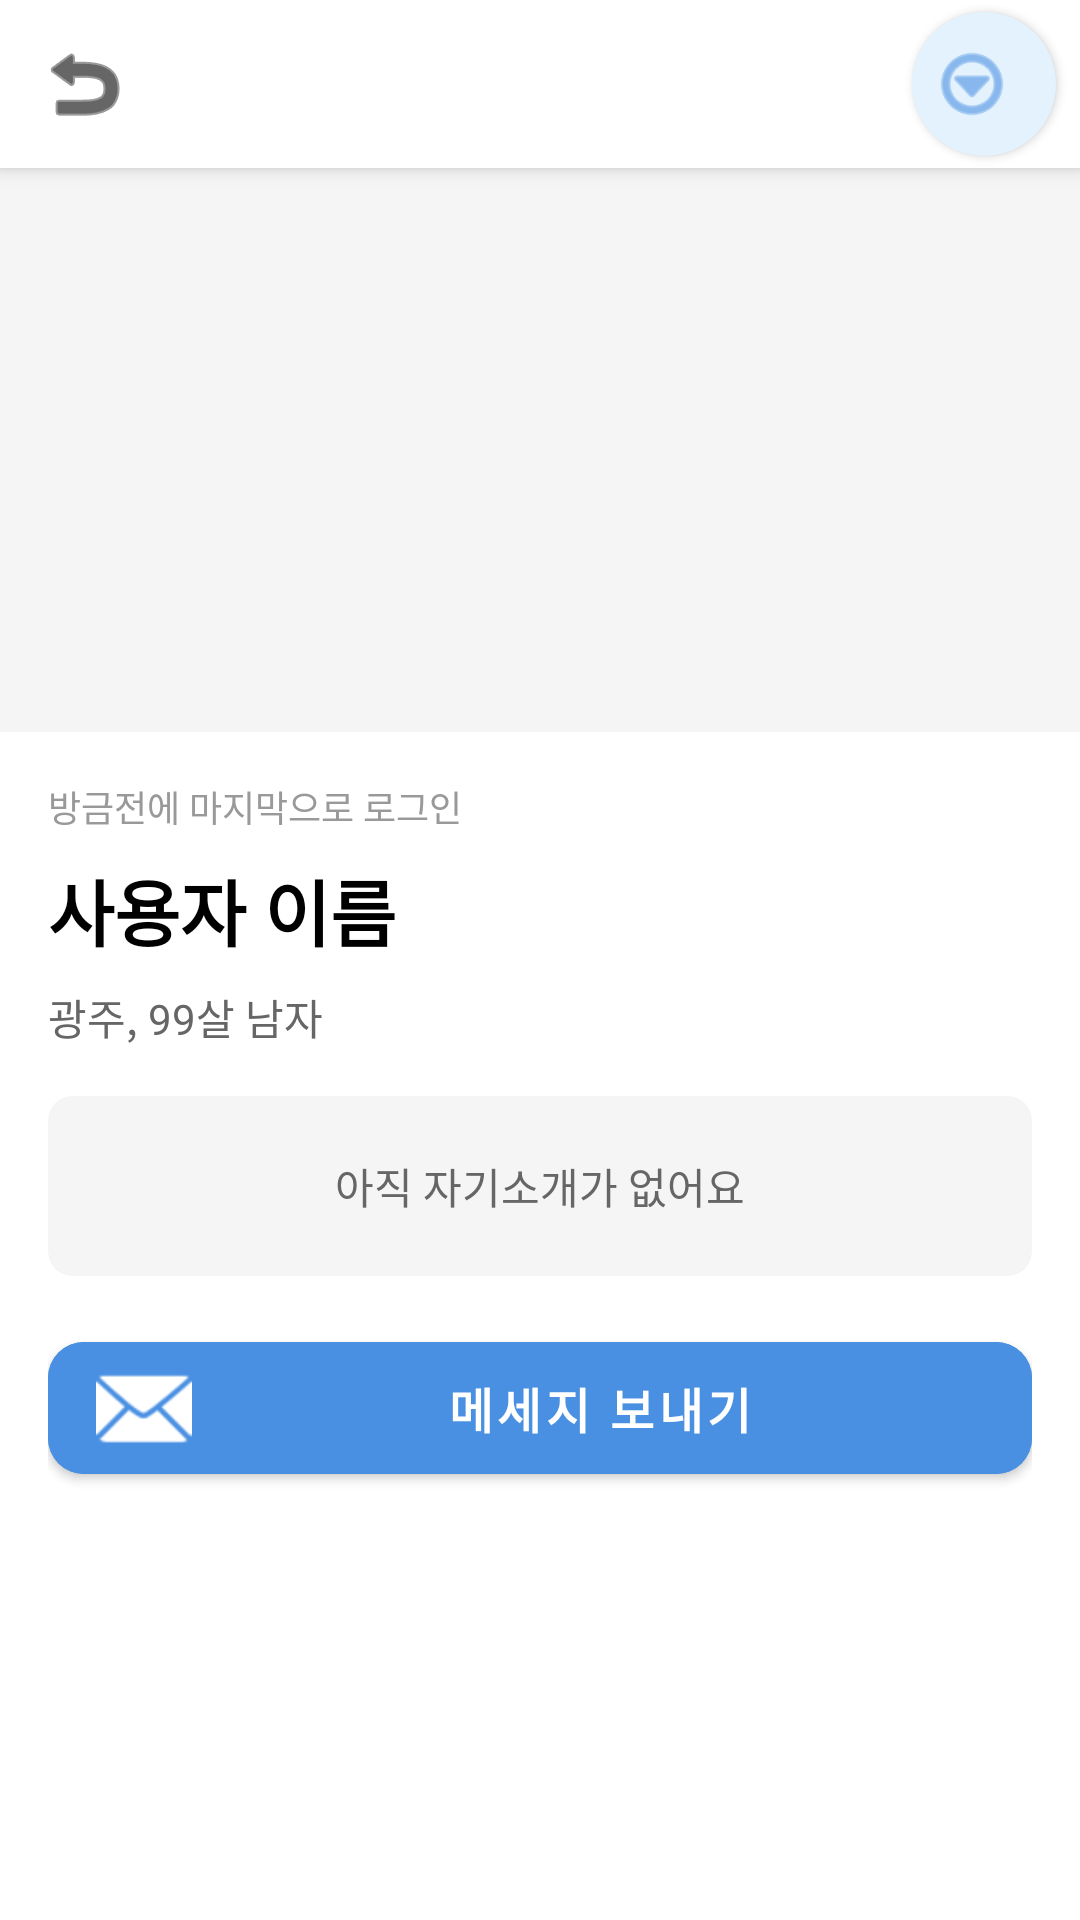

Locate icon controls on the screen. Image size 1080×1920, boxes as (x1, y1, x2, y2).
more: (912, 12, 1056, 156)
